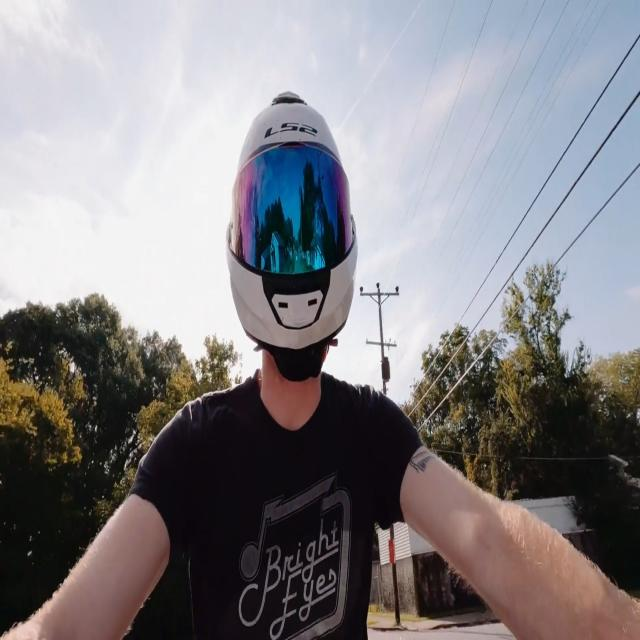Helmet_Wearer: (209, 76, 373, 407)
Person: (2, 74, 640, 639)
